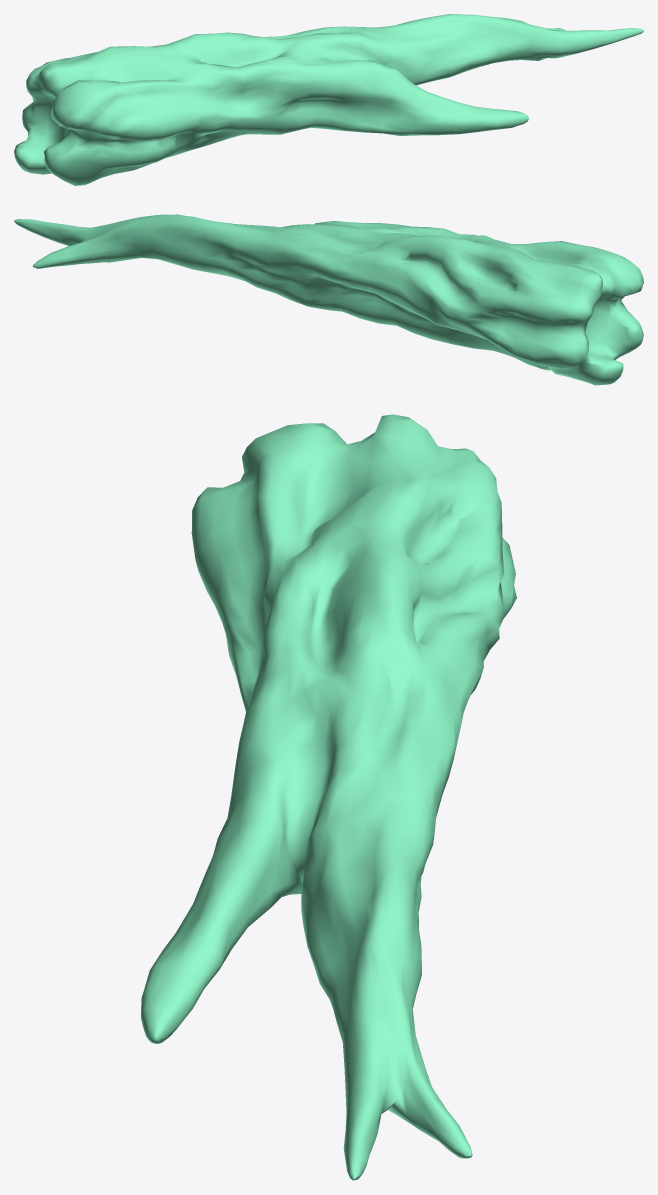
The model's file is branches002CHANGE.fbx.
The picture shows the model from 3 angles, top to bottom: view 1: azimuth 30°, elevation 25°; view 2: azimuth 150°, elevation 25°; view 3: azimuth 270°, elevation 25°; orthographic projection. The views are drawn at different scales.
Visible parts, largest first — view 1: 樹枝002; view 2: 樹枝002; view 3: 樹枝002.
Boxes of the visible parts, x1,y1,x2,y2 form: 樹枝002: (14,14,643,185); 樹枝002: (14,214,643,385); 樹枝002: (141,414,516,1180).
Bounding box in the file's own units: 2608 × 465 × 691.
